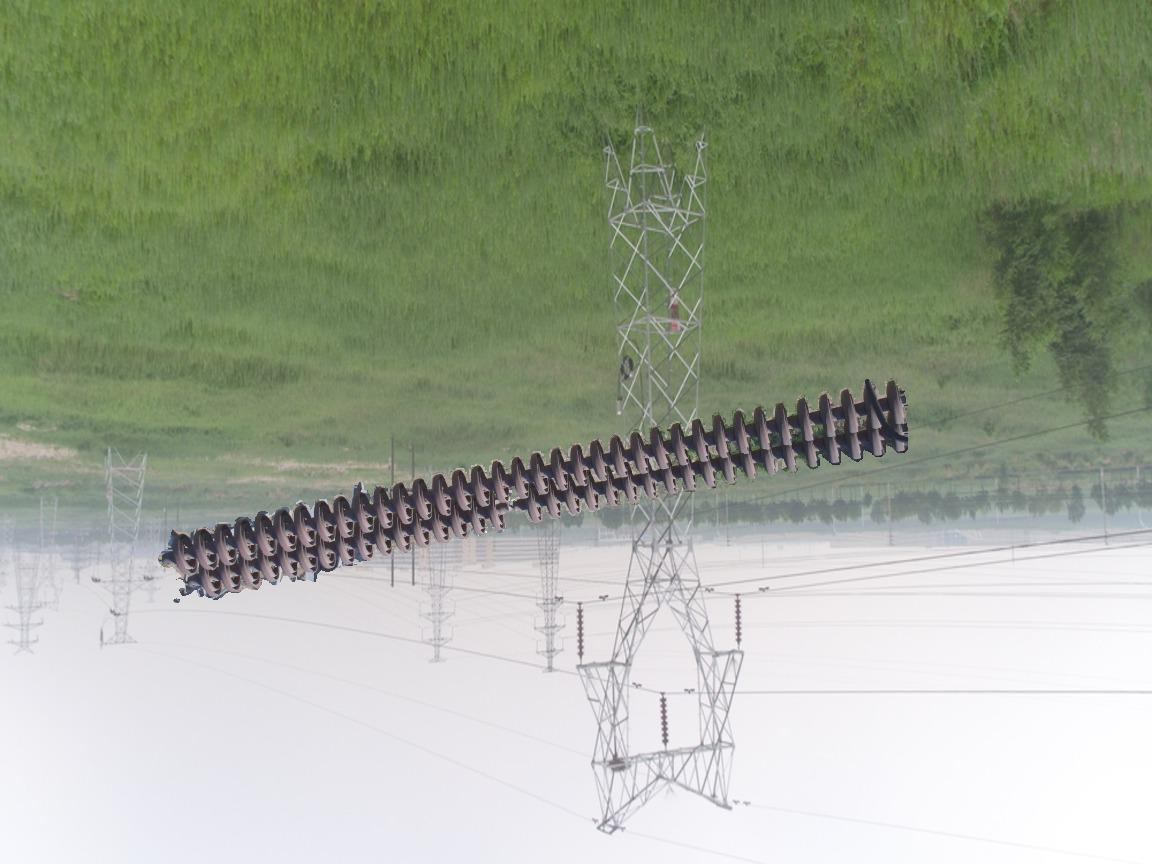insulator: (158, 373, 916, 606), (657, 694, 673, 747), (573, 603, 587, 659), (731, 596, 747, 644)
insulator_stringdrop: (486, 485, 545, 536)
